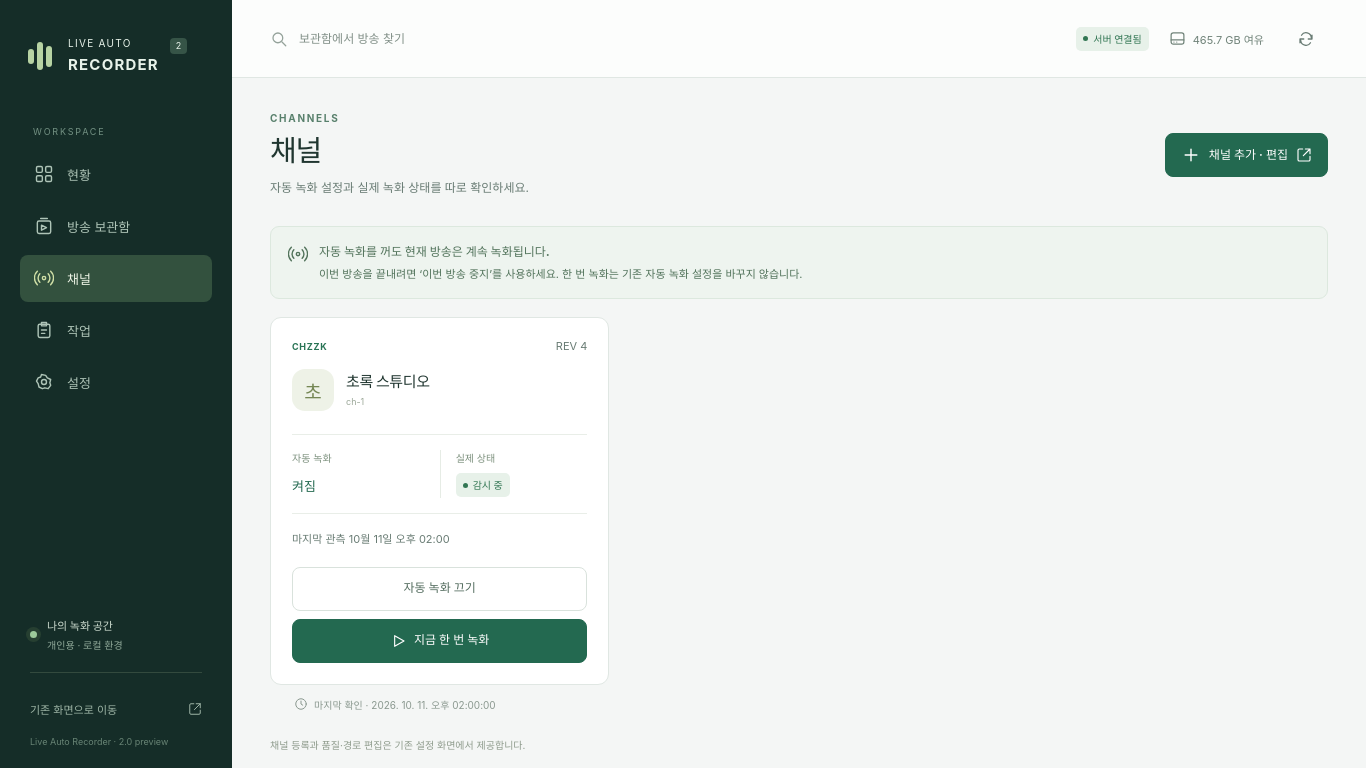
Test: closes a command confirmation without sending a command
Expected: the heading "초록 스튜디오" is shown, [346, 370, 430, 391]
Click the button "지금 한 번 녹화": coordinates (440, 641) [292, 619, 587, 663]
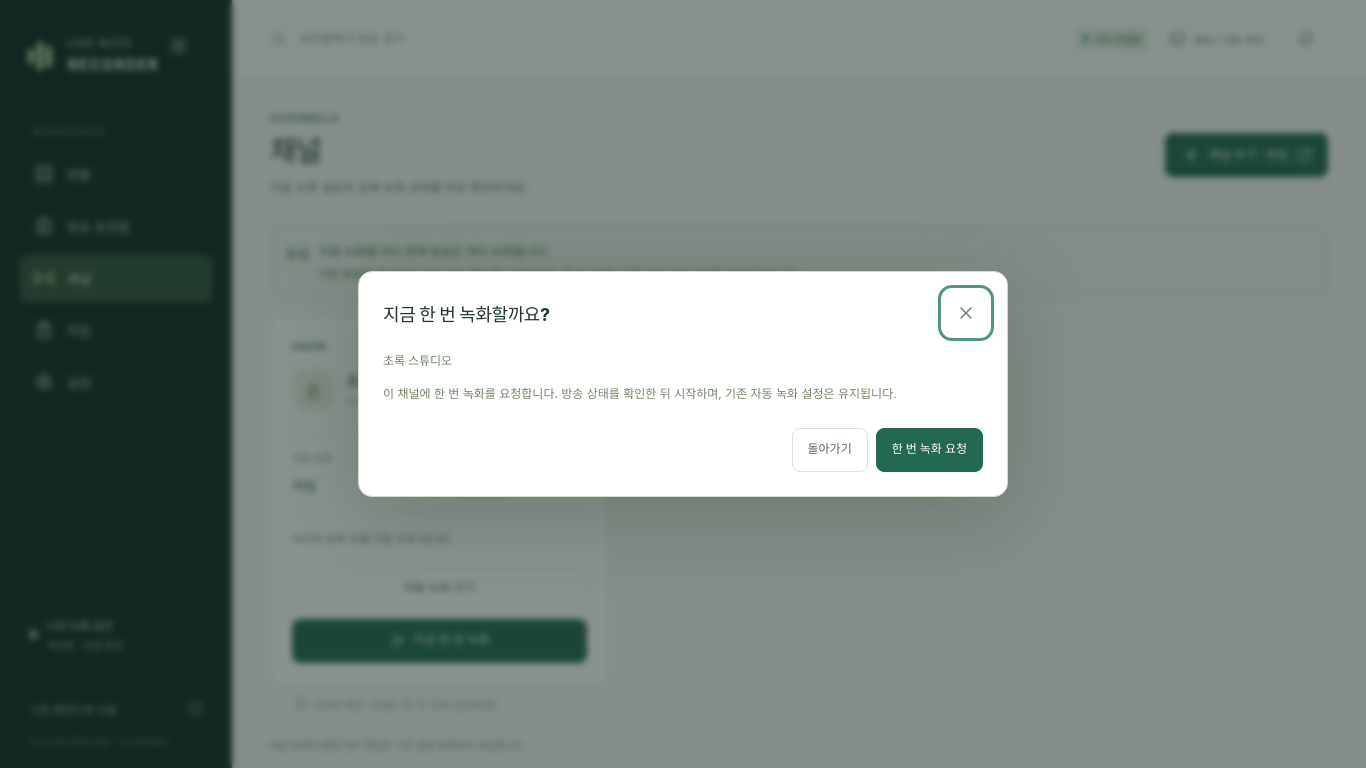
Expected: the dialog is shown, [358, 271, 1008, 497]
Click the button "돌아가기": coordinates (830, 450) [792, 428, 868, 472]
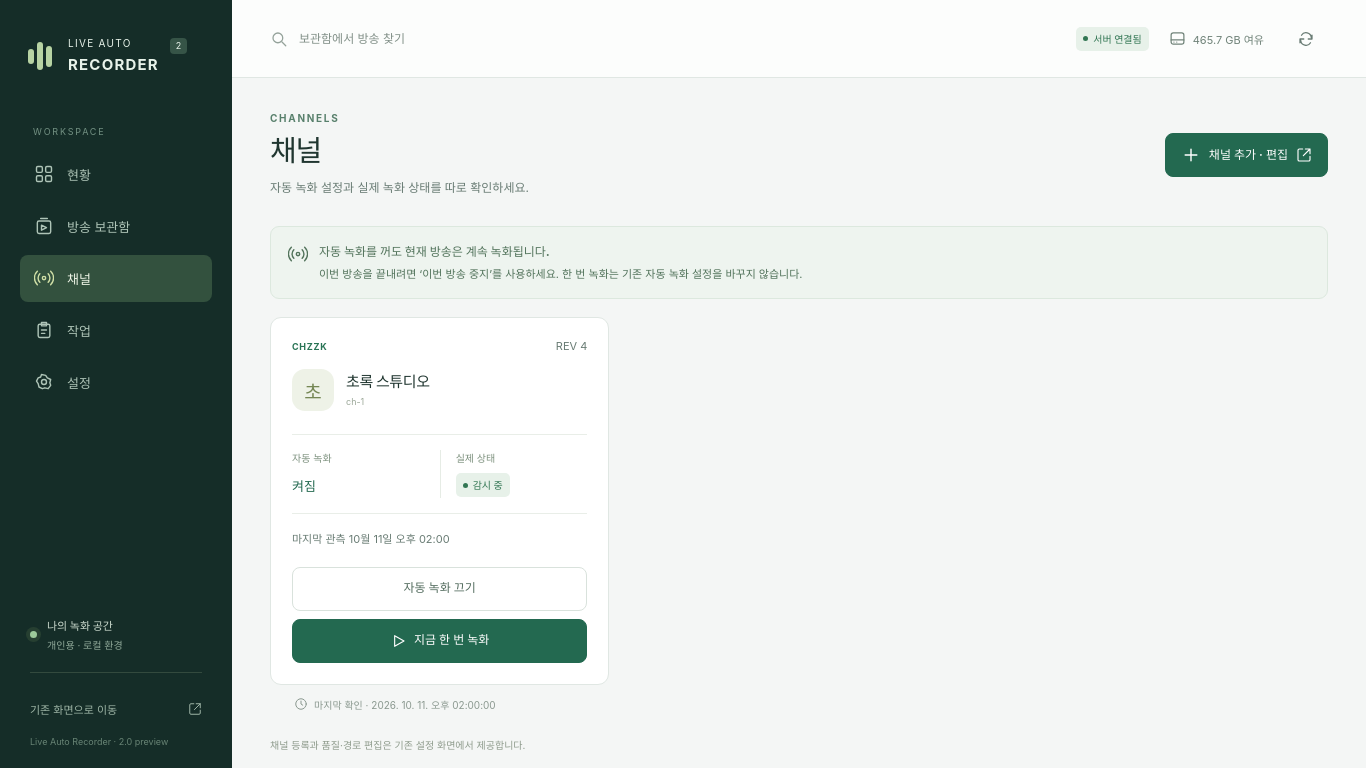
Expected: the dialog is gone
